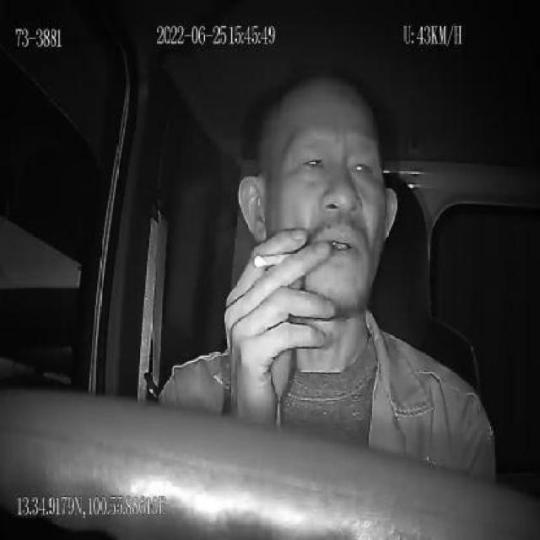smoking: (251, 251, 294, 270)
